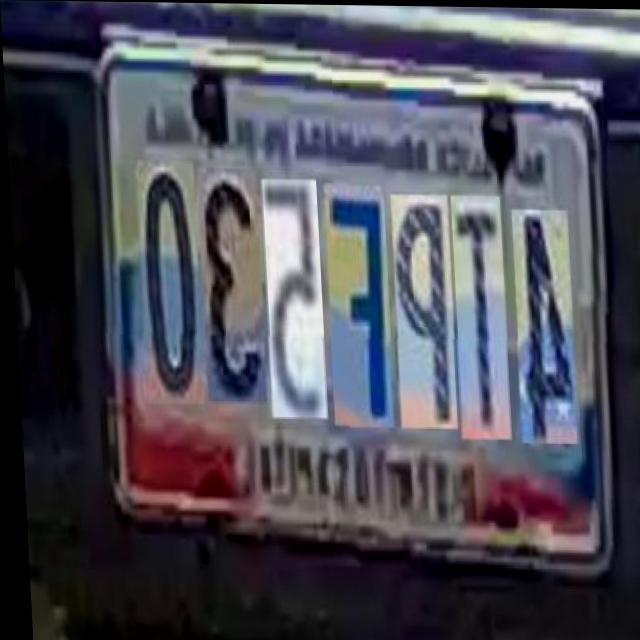3: (194, 169, 264, 404)
4: (508, 208, 573, 442)
5: (258, 180, 324, 419)
f: (320, 184, 390, 426)
o: (132, 162, 201, 404)
p: (387, 193, 454, 427)
t: (448, 194, 507, 439)
